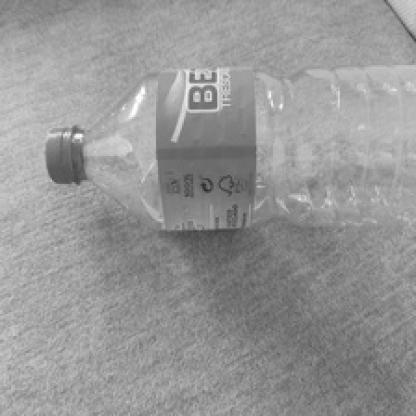plastic_bottles: (43, 56, 416, 256)
